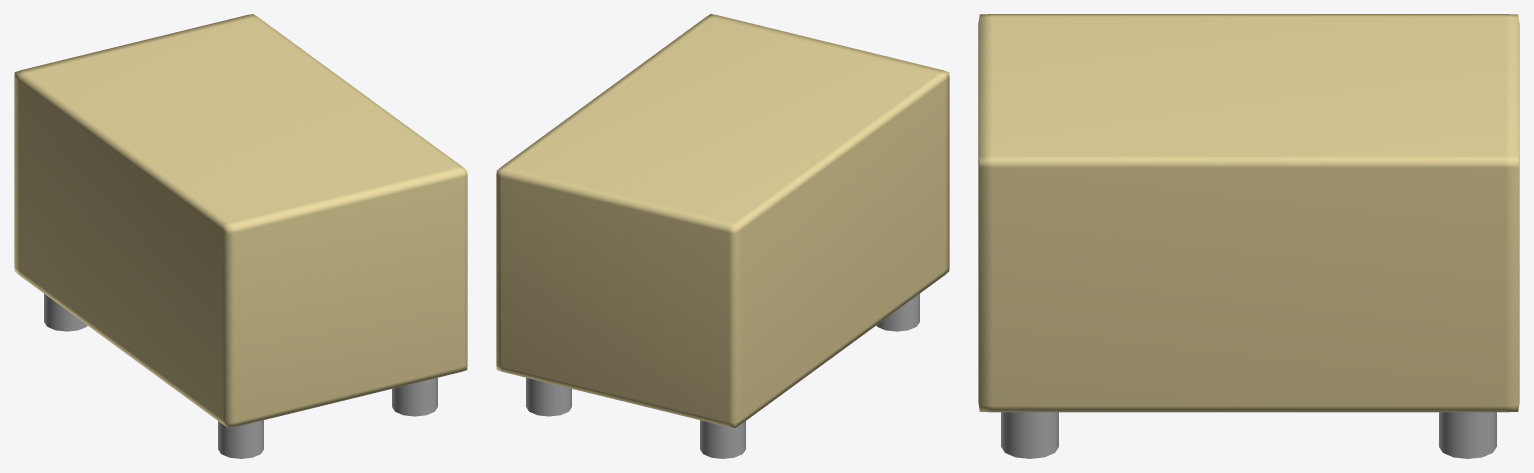
The model's file is MSH_CoworkPA_SillonM.fbx.
3 renders of one model, left to right at view 1: azimuth 30°, elevation 25°; view 2: azimuth 150°, elevation 25°; view 3: azimuth 270°, elevation 25°, orthographic. The views are drawn at different scales.
Parts seen in each view (by area): view 1: MSH_CoworkPA_SillonM; view 2: MSH_CoworkPA_SillonM; view 3: MSH_CoworkPA_SillonM.
Boxes of the visible parts, x1,y1,x2,y2 form: MSH_CoworkPA_SillonM: [14, 14, 467, 458]; MSH_CoworkPA_SillonM: [496, 14, 949, 458]; MSH_CoworkPA_SillonM: [978, 14, 1519, 458].
Size of the model in its own units: 52.64 by 51.13 by 81.78.
